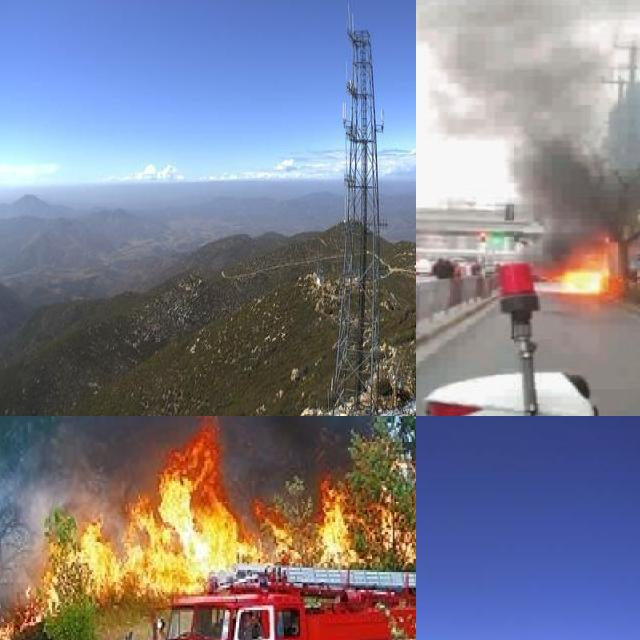fire: (0, 416, 416, 640), (556, 254, 618, 296)
smoke: (416, 0, 640, 241), (0, 416, 349, 535)
